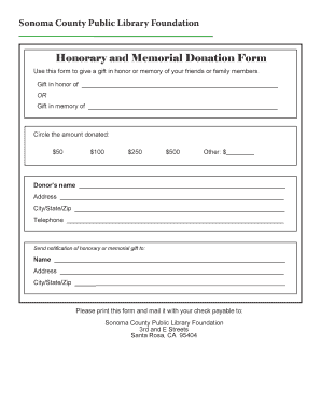textline: (81, 75, 280, 91), (52, 252, 288, 265), (58, 191, 288, 203), (86, 98, 280, 112), (65, 214, 286, 226), (72, 202, 286, 214), (78, 180, 289, 192), (58, 266, 288, 277), (72, 278, 288, 289), (225, 147, 256, 158)
